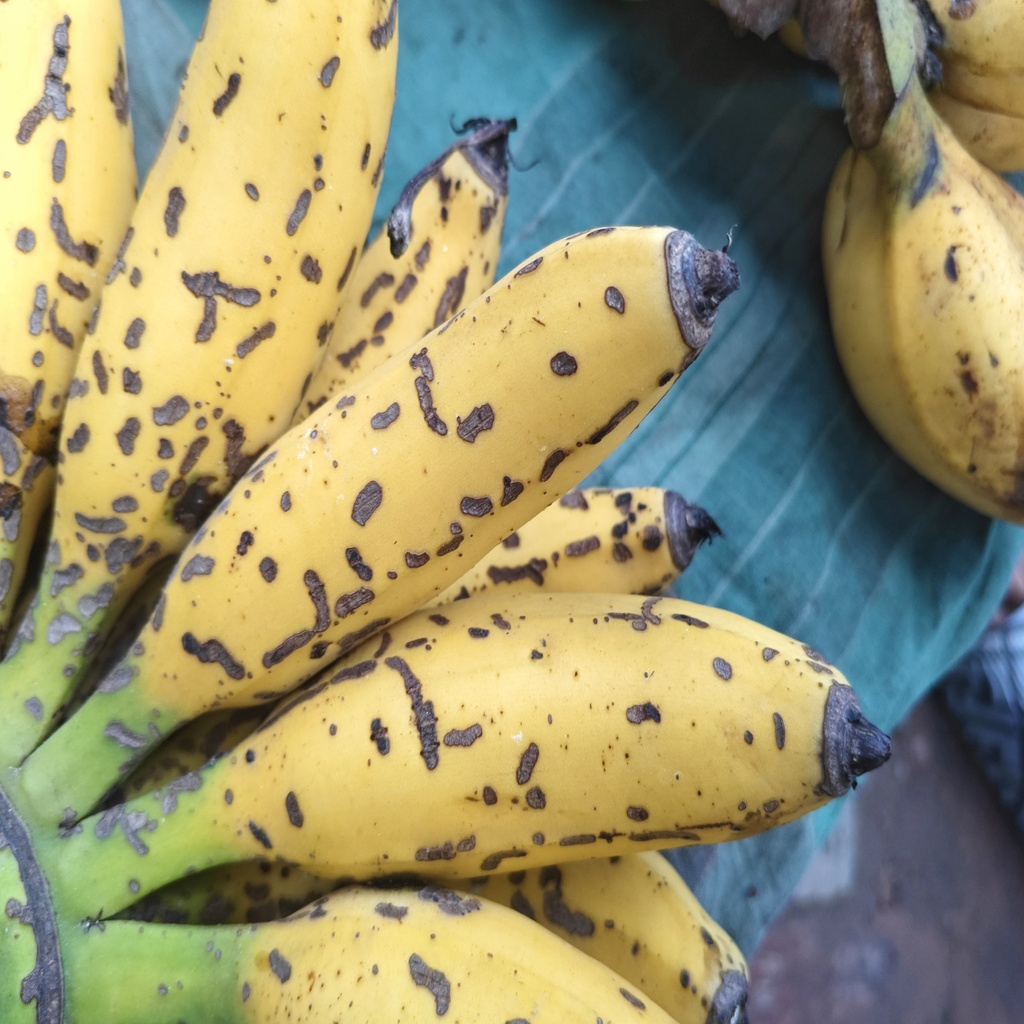unhealthy: (134, 229, 730, 753), (43, 1, 401, 622), (179, 594, 890, 885)
